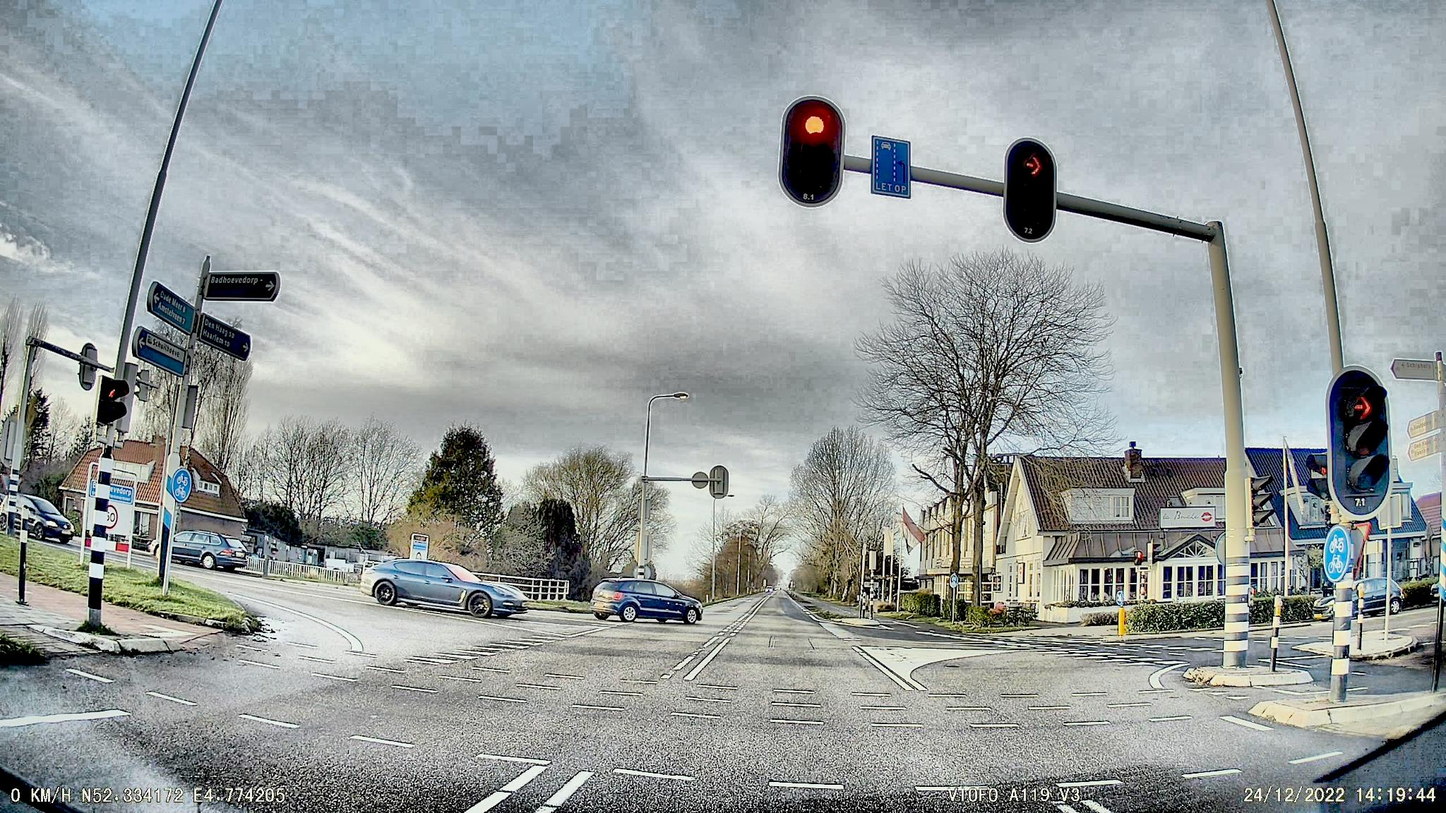Roads: (0, 591, 1446, 813)
